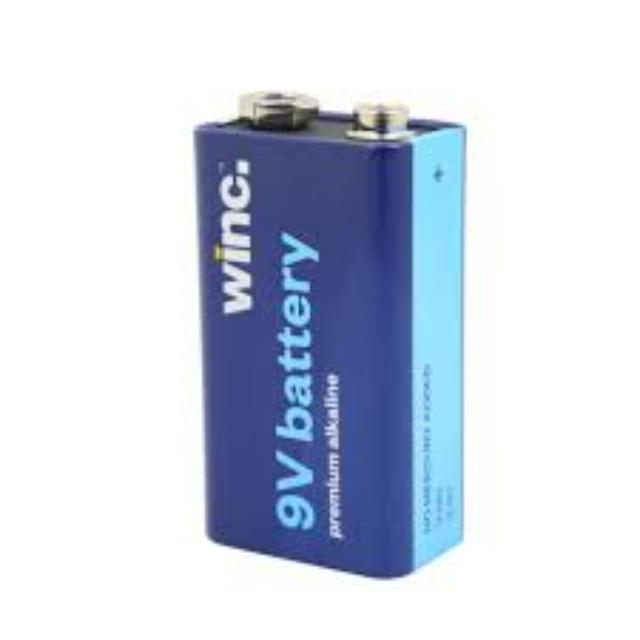Battery: (191, 91, 475, 583)
